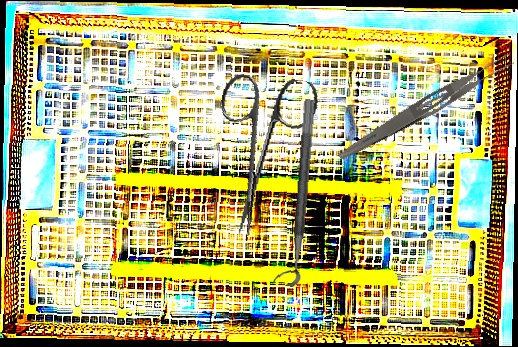Dressing Forceps: (335, 48, 517, 169)
Fixation Ring: (271, 97, 317, 288)
Iris Scissors: (199, 67, 321, 244)
